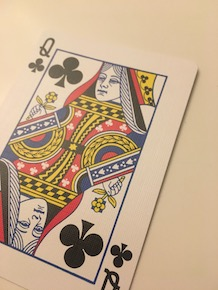QueenOfClubs: (1, 28, 201, 290)
